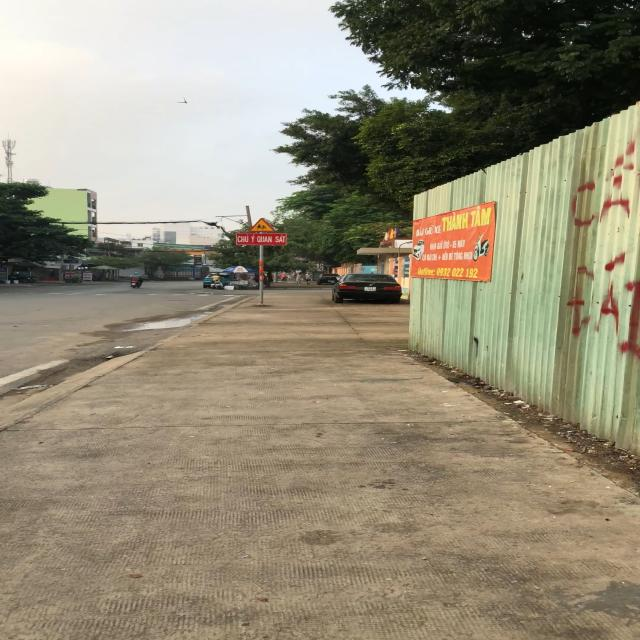Bien bao tre em: (248, 217, 276, 233)
